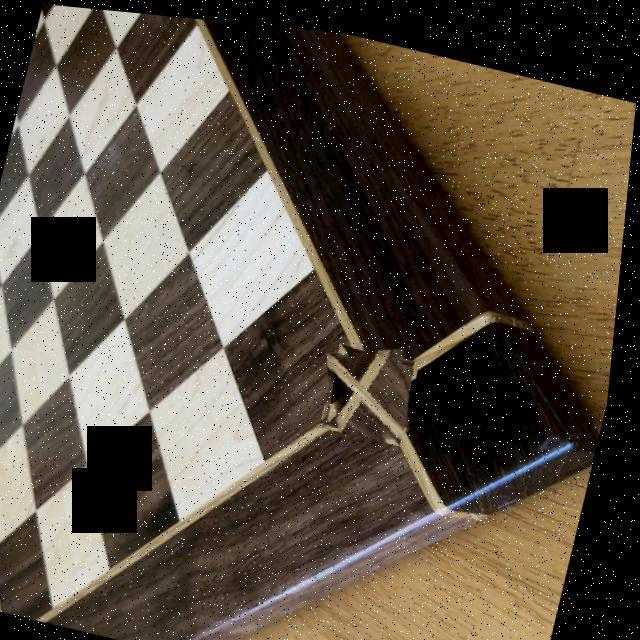chess-table-corners: (320, 329, 427, 438)
